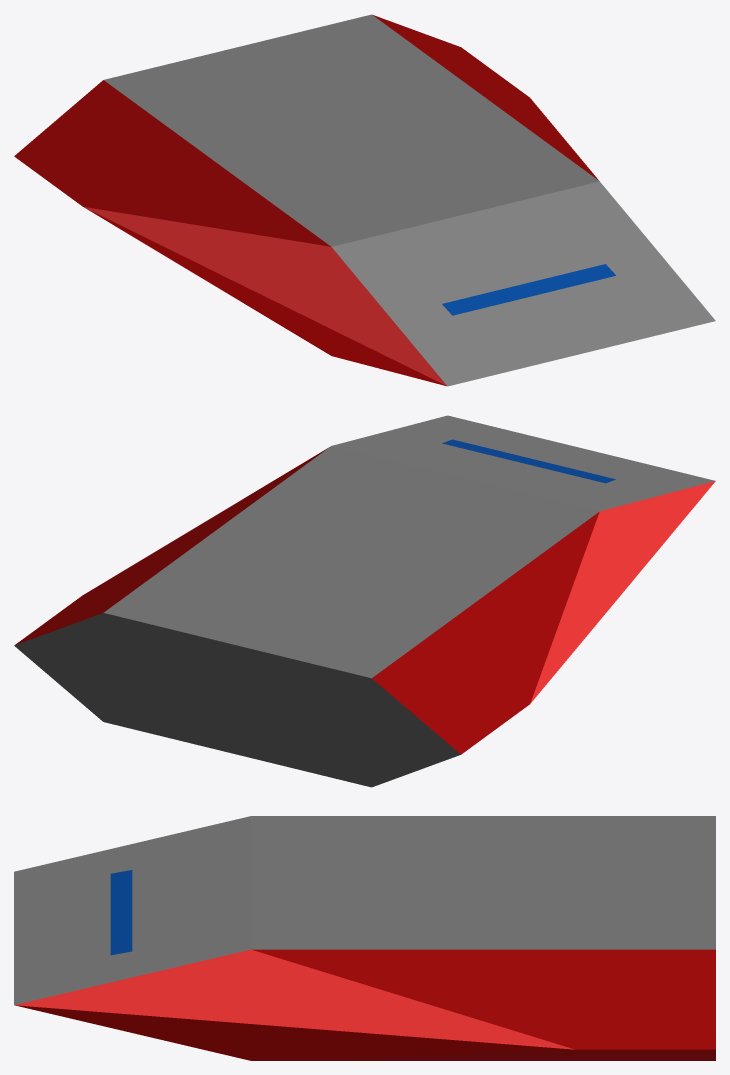
The model's file is adder.obj.
3 views of the same model, one above another, from view 1: azimuth 30°, elevation 25°; view 2: azimuth 150°, elevation 25°; view 3: azimuth 270°, elevation 25° (orthographic).
Visible parts, largest first — view 1: adder; view 2: adder; view 3: adder.
Part boxes in pixels (x1,y1,x2,y2): adder: (14,14,715,386); adder: (14,415,715,787); adder: (14,816,715,1060).
Bounding box in the file's own units: 60 × 14 × 80.
